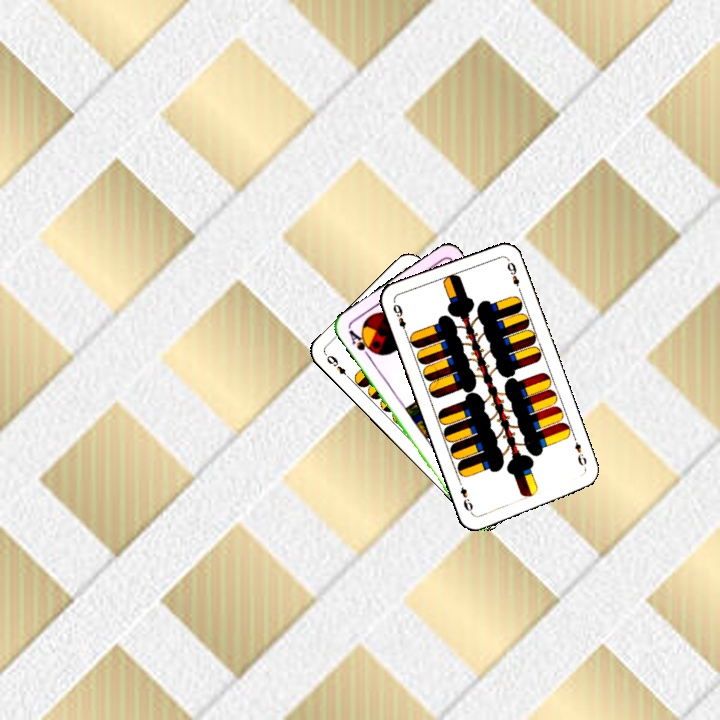E9: (322, 351, 354, 383), (389, 300, 410, 338), (570, 433, 589, 473)
SA: (344, 325, 378, 361)
